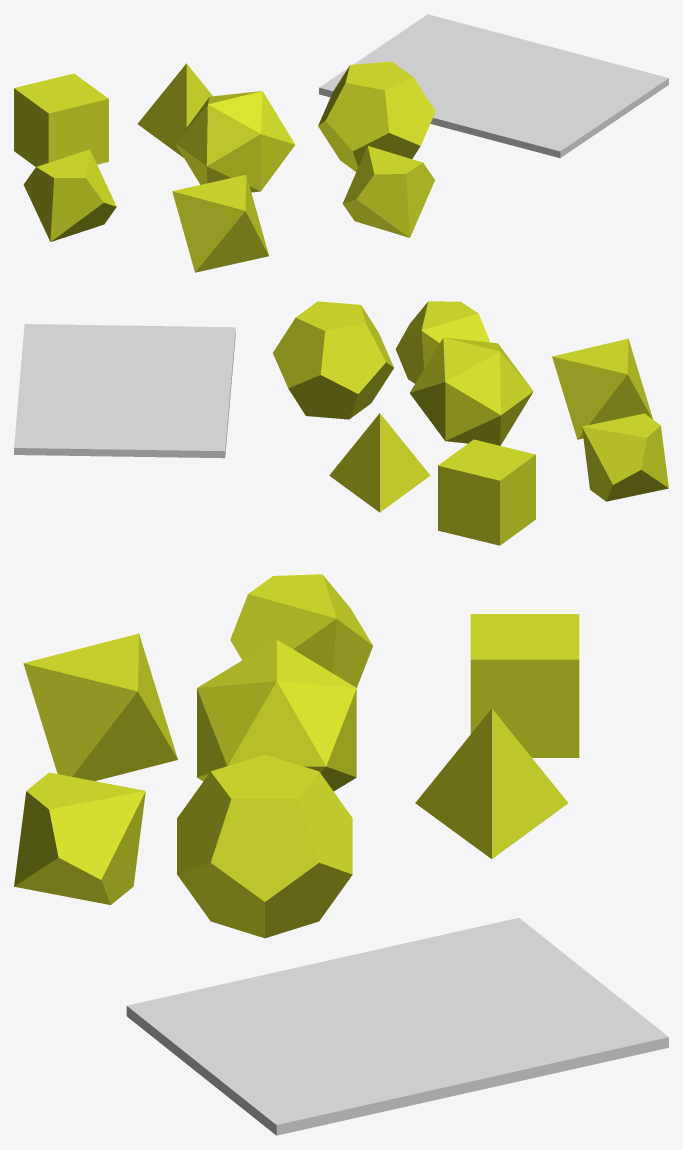
The model's file is dice_yellow.glb.
3 views of the same model, one above another, from view 1: azimuth 30°, elevation 25°; view 2: azimuth 150°, elevation 25°; view 3: azimuth 270°, elevation 25° (orthographic). The views are drawn at different scales.
Parts seen in each view (by area): view 1: Cube; view 2: Cube; view 3: Cube.
Part boxes in pixels (box(x1,y1,x2,y2)): Cube: box(14, 14, 668, 272); Cube: box(14, 301, 668, 545); Cube: box(14, 574, 668, 1135).
Size of the model in its own units: 11.92 by 1.85 by 6.97.
